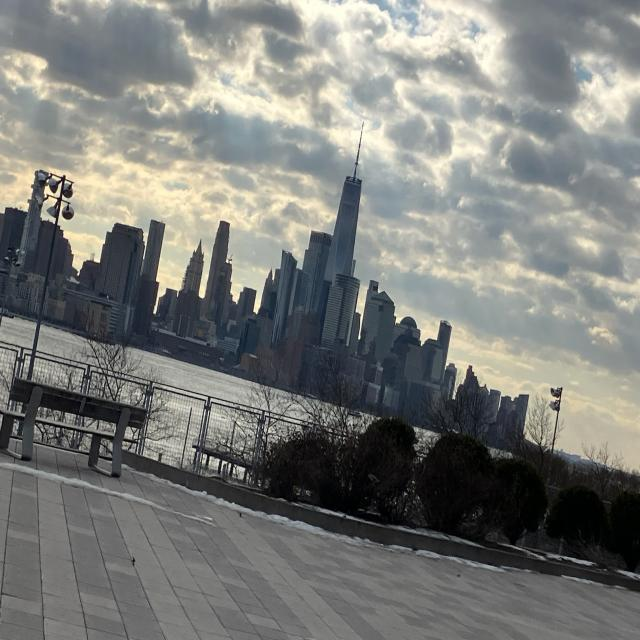WTC: (327, 117, 370, 277)
